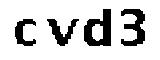3: (117, 6, 146, 48)
c: (11, 17, 38, 50)
d: (82, 9, 112, 52)
v: (42, 16, 78, 50)
